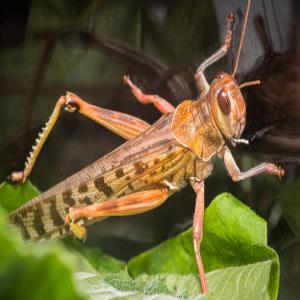locust: (25, 51, 255, 256)
